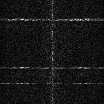wifi: (1, 18, 104, 21), (1, 67, 104, 69), (1, 82, 104, 84)
